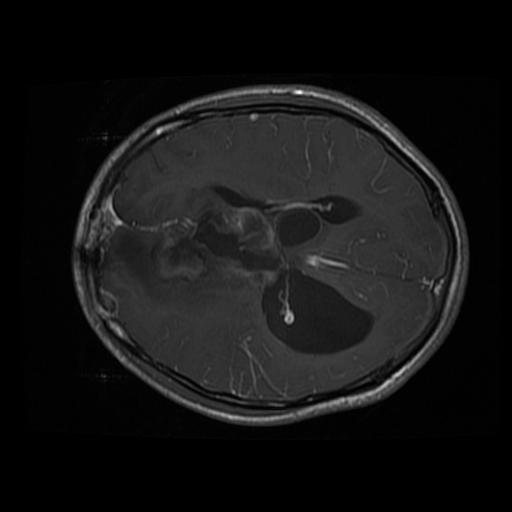glioma: (105, 185, 282, 318)
